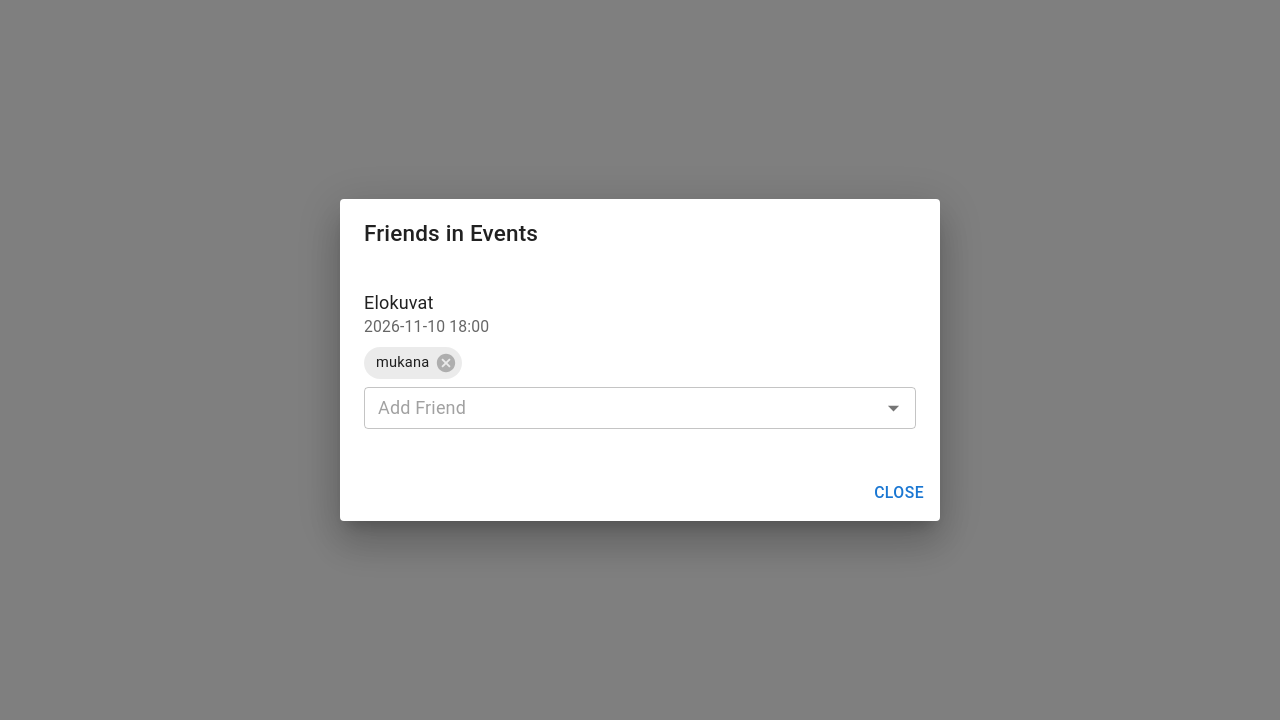
EventParticipantsDialog › näyttää virheen, kun kutsun lisääminen epäonnistuu
The width and height of the screenshot is (1280, 720).
Step 1. Click the dropdown → (624,408), box [370,392,877,423]
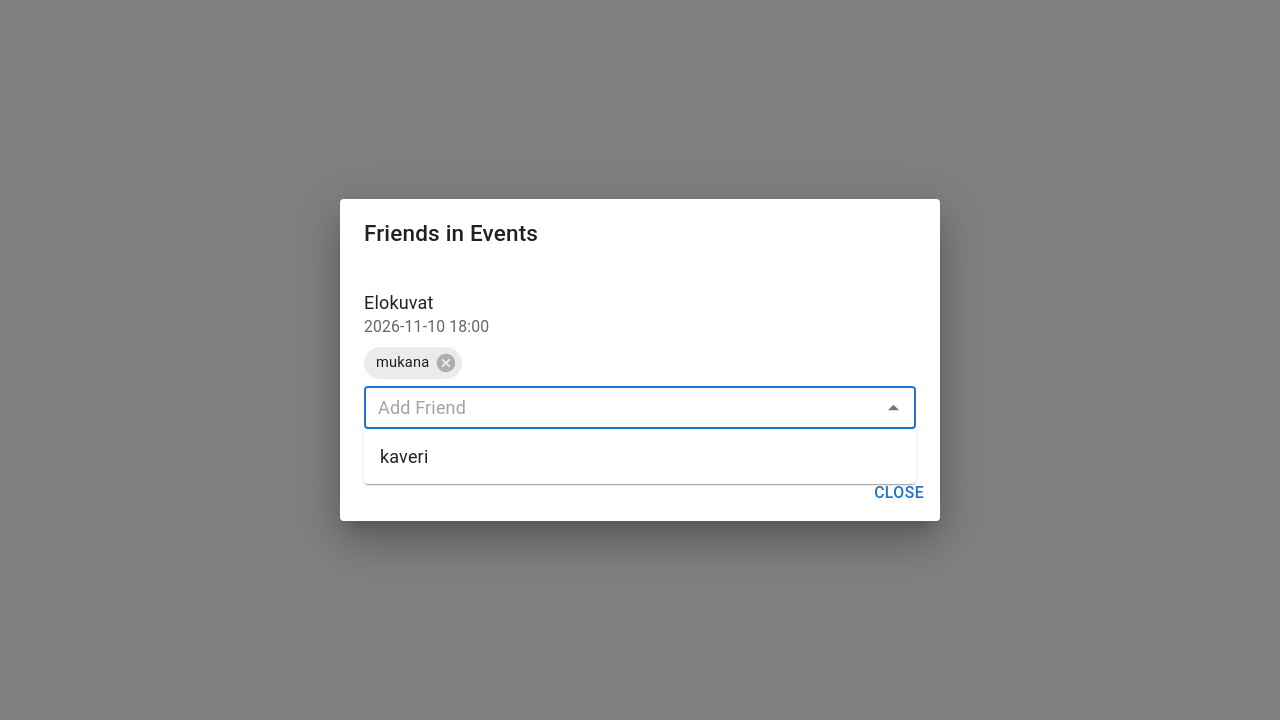
Step 2. Click the option "kaveri" → (404,456), box [380,446,428,467]
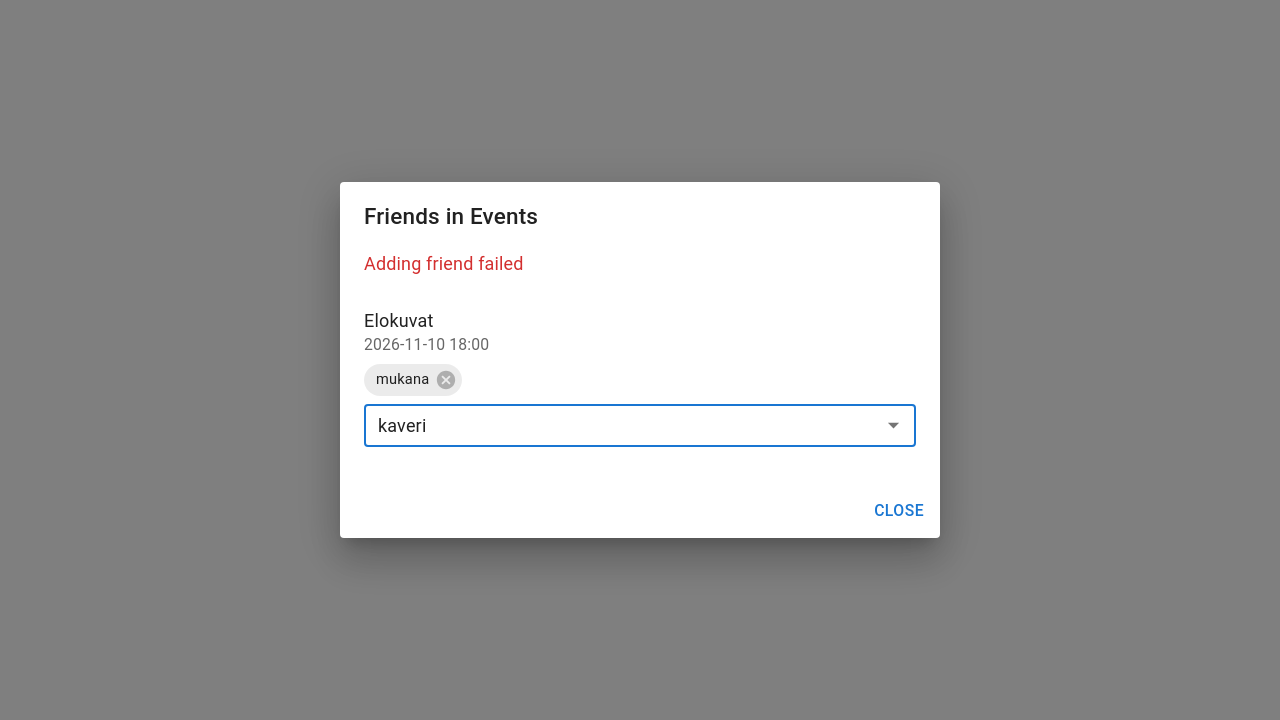
Check: the text "Adding friend failed" is shown, box [364,252,524,274]
